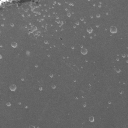corrosion: (8, 83, 19, 93), (108, 25, 118, 34), (78, 47, 89, 55), (85, 26, 95, 34), (11, 41, 19, 49), (88, 115, 96, 123), (5, 101, 13, 108), (50, 84, 58, 90), (57, 20, 65, 26), (115, 68, 122, 74), (66, 12, 73, 18), (43, 39, 49, 45), (38, 85, 44, 91), (95, 13, 101, 19), (67, 3, 76, 7), (9, 23, 16, 28), (25, 50, 32, 55), (121, 54, 127, 59), (75, 21, 80, 26), (107, 100, 112, 105), (34, 64, 40, 68), (49, 74, 54, 78), (20, 77, 25, 81), (17, 102, 23, 105), (27, 13, 31, 17), (97, 5, 102, 8), (28, 23, 32, 26), (47, 14, 51, 17)
